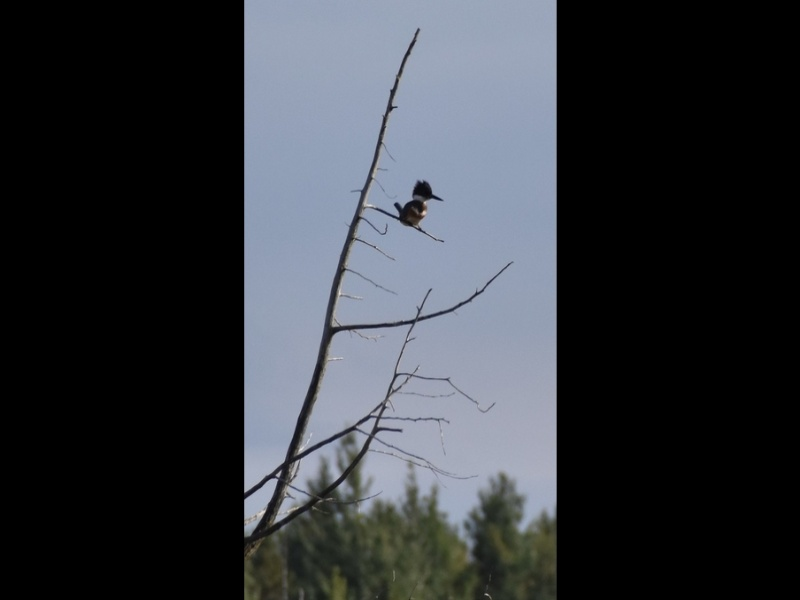kingfisher: (393, 178, 445, 227)
